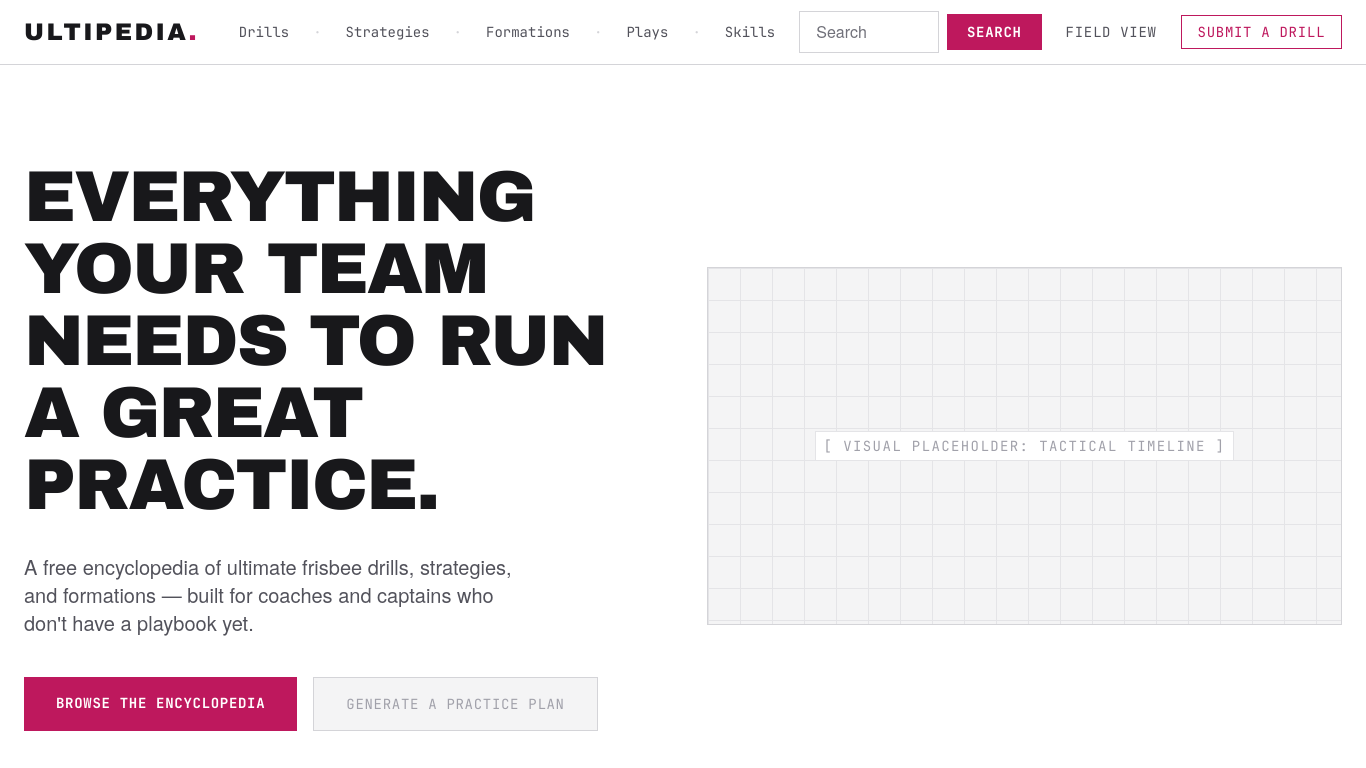
Test: routing › navigates from the encyclopedia home into the intake flow
Step 1. Click the link "Submit a Drill" → [1261, 32], box [1181,15,1342,49]
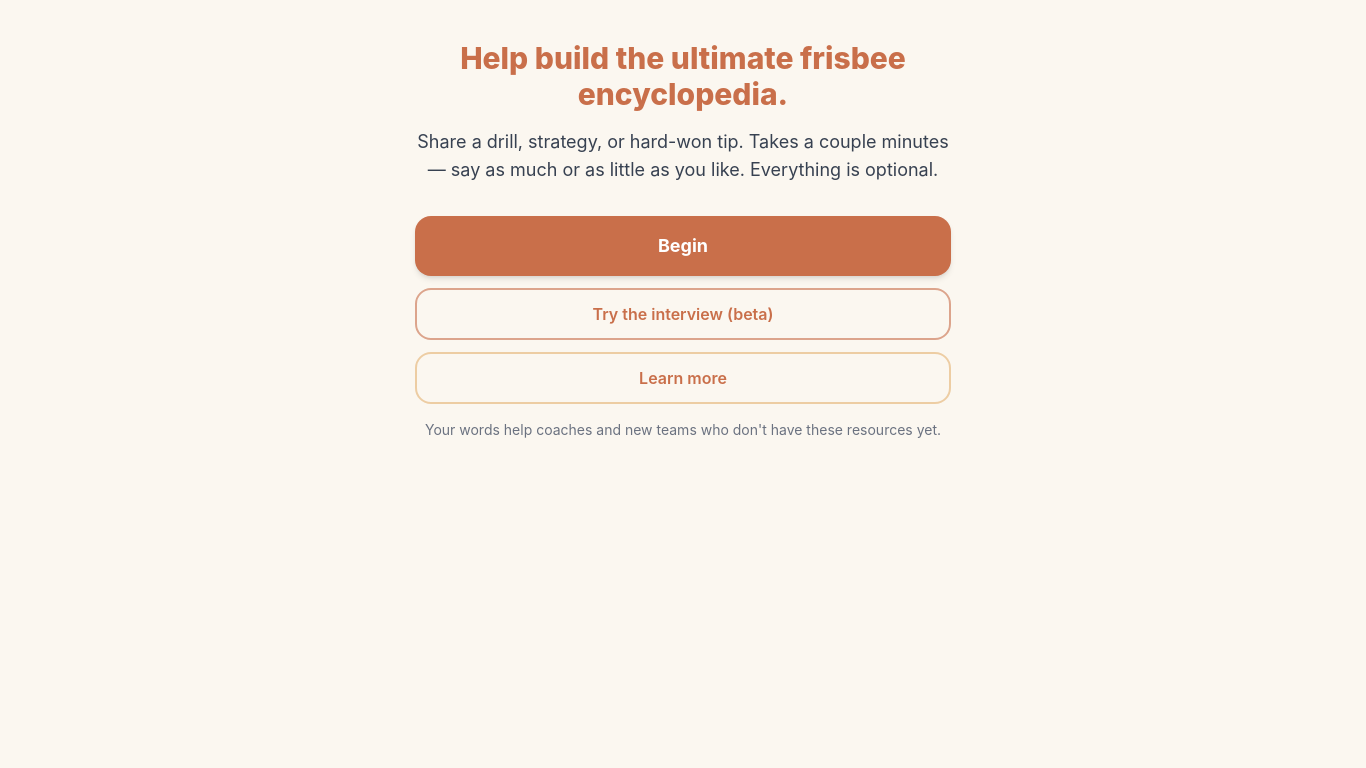
Result: the button "Begin" is shown at [415,216,951,276]
